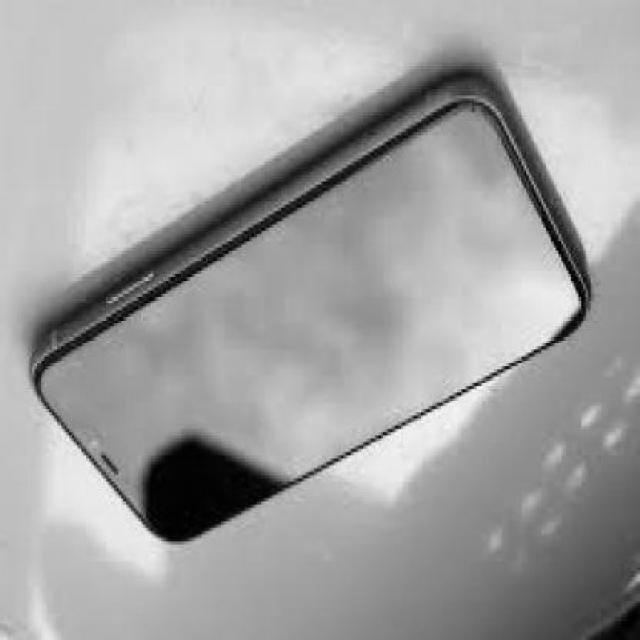fake: (30, 73, 593, 541)
